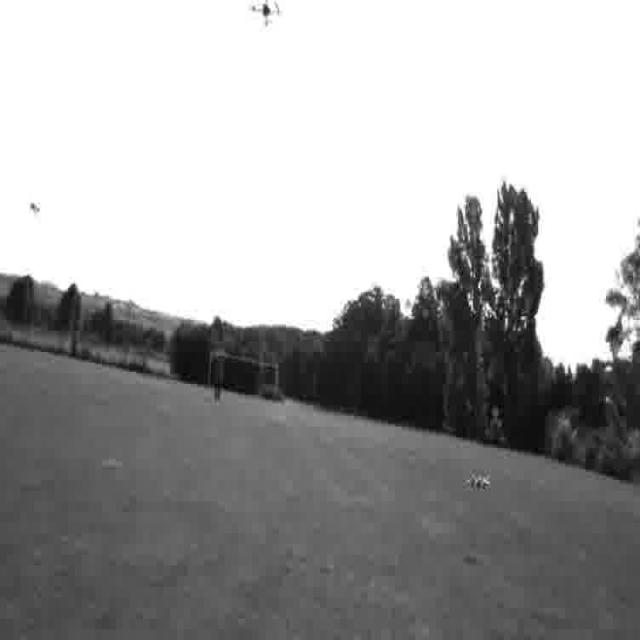drone: (248, 0, 283, 33)
